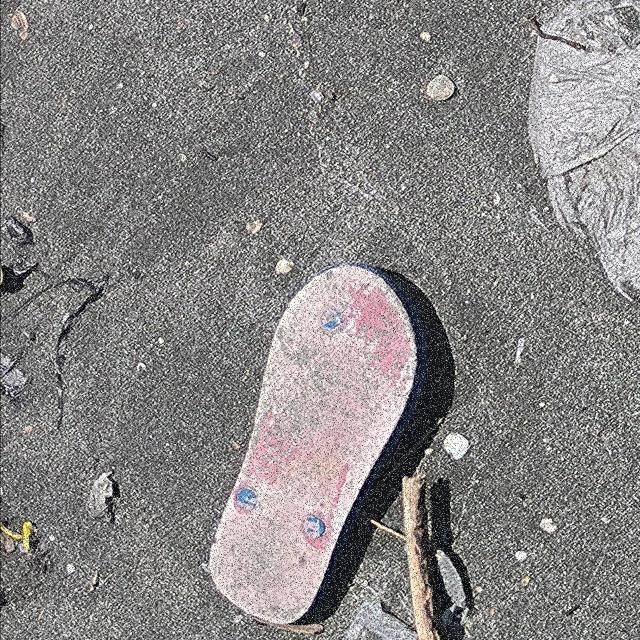rubber_waste: (210, 265, 433, 627)
